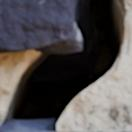brick: (0, 0, 81, 52), (0, 127, 28, 131)
crack: (0, 0, 129, 131)
